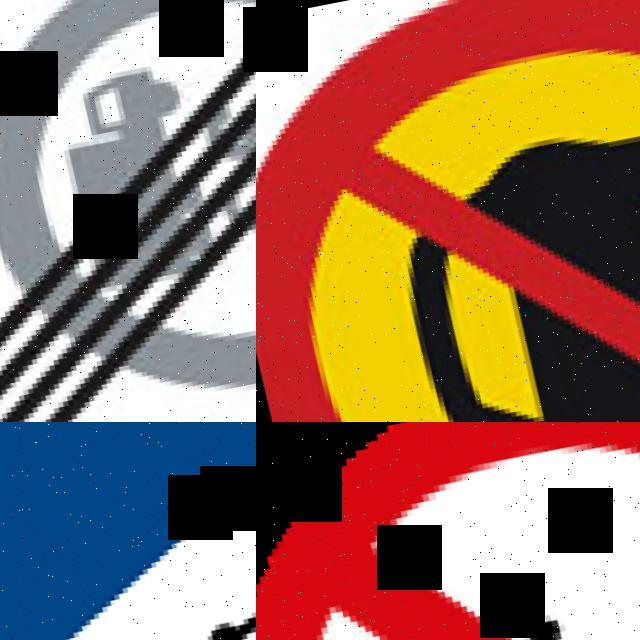111: (0, 0, 256, 422)
19: (0, 422, 256, 640)
45: (256, 0, 640, 422)
No entry for pedestrians: (256, 422, 640, 640)
